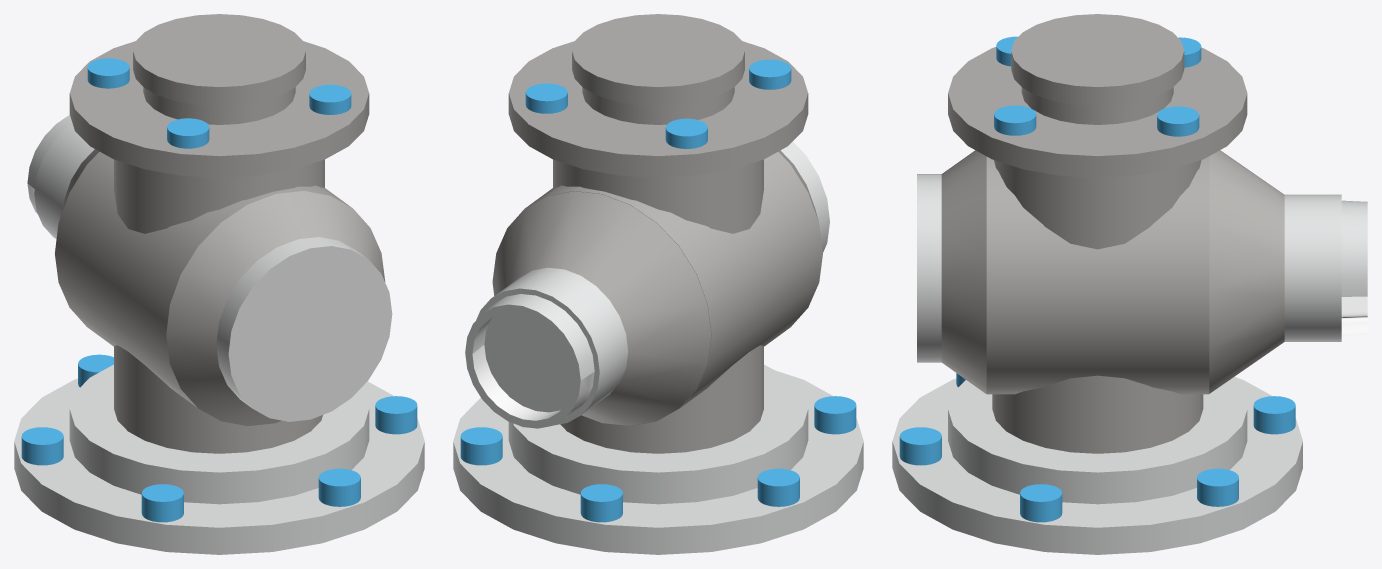
File: depressure.fbx
The picture shows the model from 3 angles, left to right: view 1: azimuth 30°, elevation 25°; view 2: azimuth 150°, elevation 25°; view 3: azimuth 270°, elevation 25°; orthographic projection.
Parts seen in each view (by area): view 1: object 2_mesh; view 2: object 2_mesh; view 3: object 2_mesh.
Boxes of the visible parts, x1,y1,x2,y2 form: object 2_mesh: [14, 14, 424, 554]; object 2_mesh: [453, 14, 863, 554]; object 2_mesh: [892, 14, 1367, 554].
Size of the model in its own units: 19.47 by 21.86 by 22.53.
